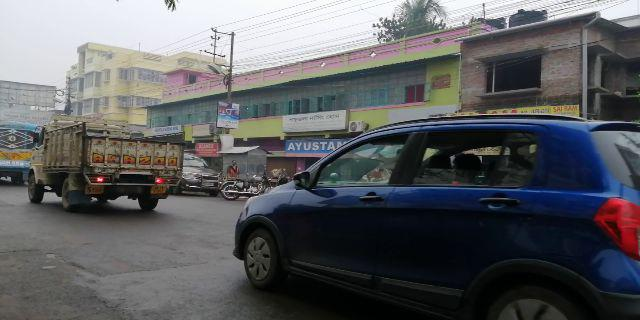Bus: (1, 121, 39, 182)
Car: (240, 130, 618, 300), (181, 150, 220, 198)
Truck: (17, 118, 186, 211)
